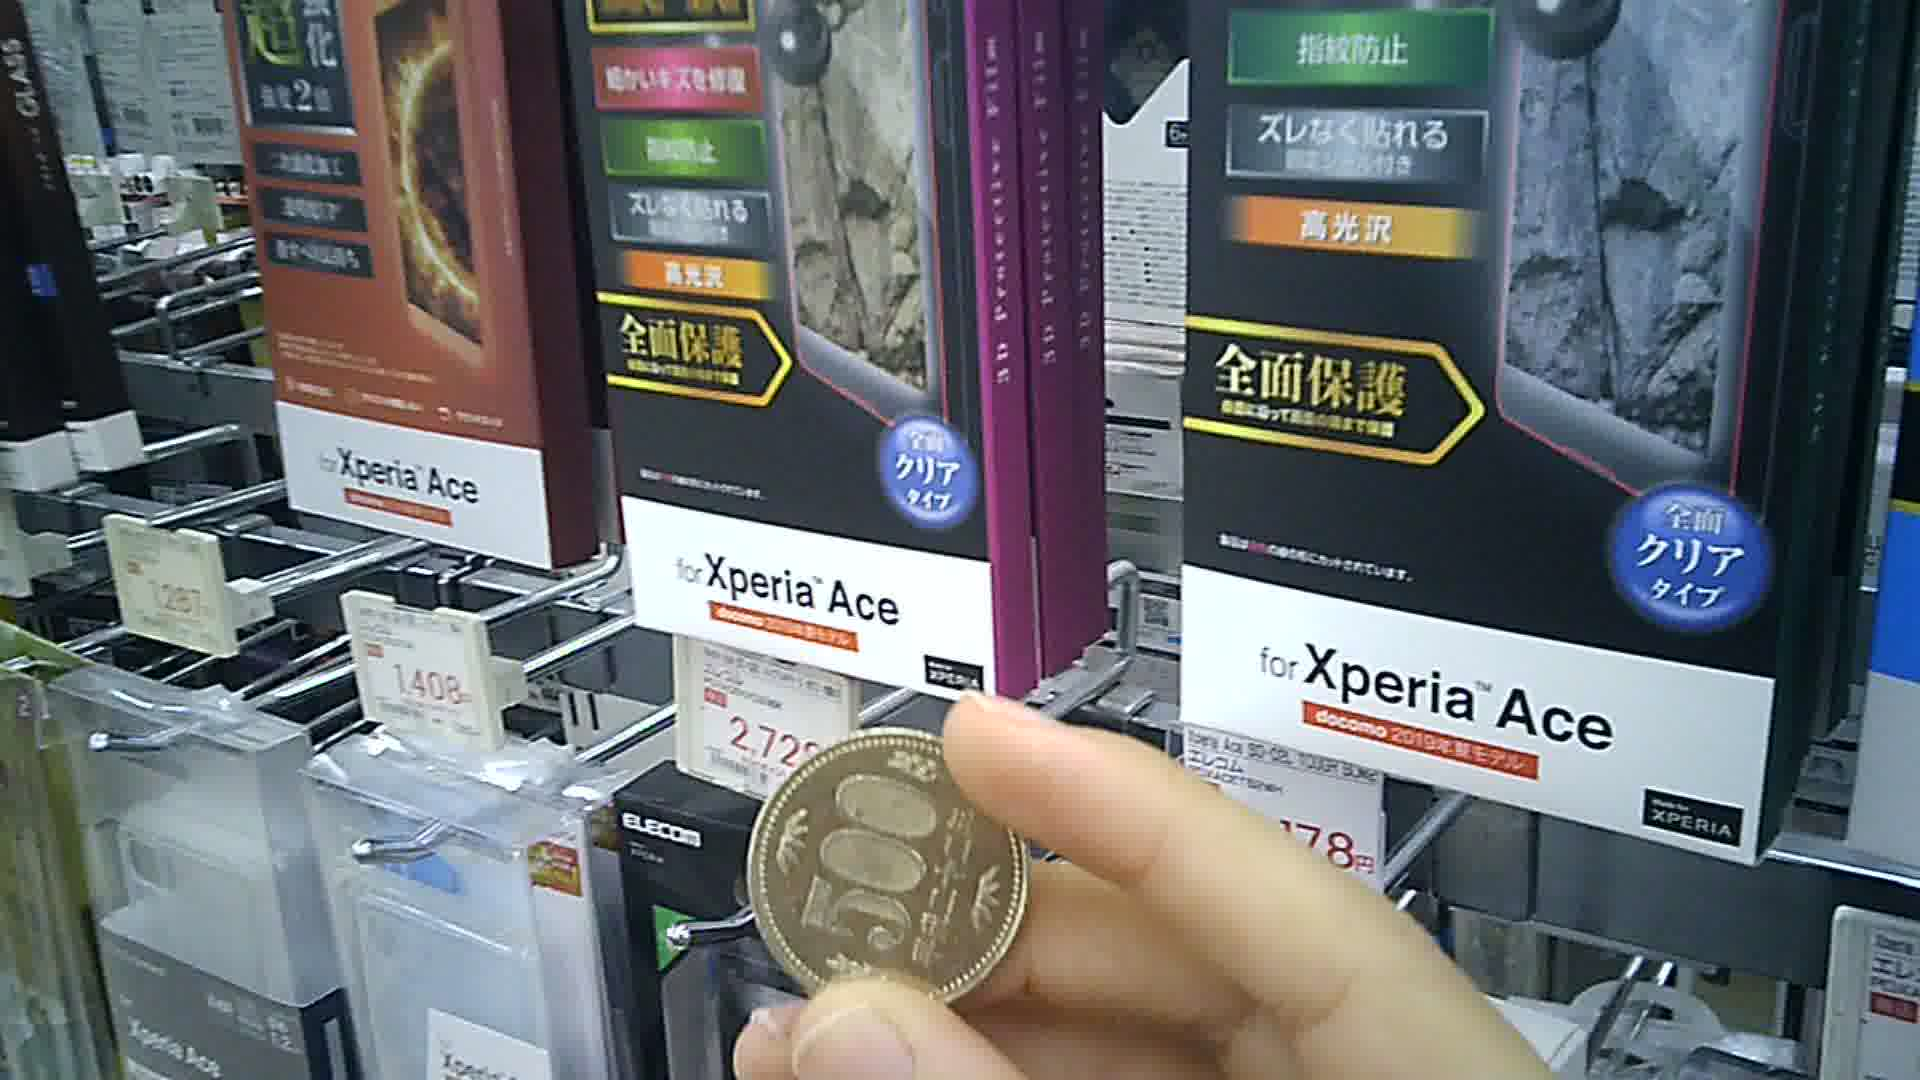500 Yen: (742, 727, 1042, 1018)
